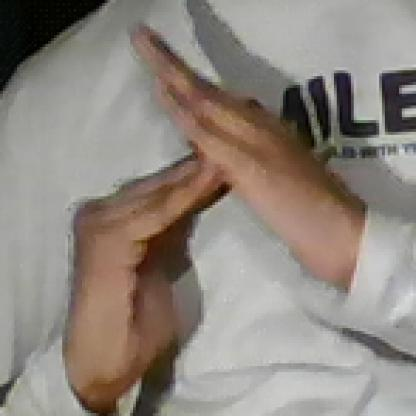Z: (53, 16, 325, 348)
